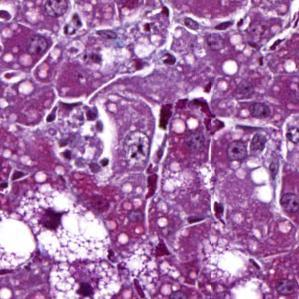ballooning: (15, 181, 113, 266), (193, 235, 254, 288), (46, 258, 124, 299)
